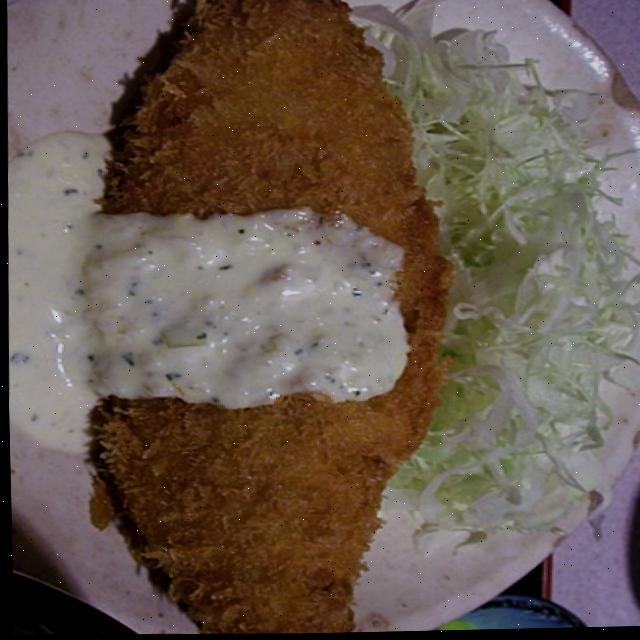炸货点心: (63, 0, 464, 639)
熟制海鲜: (63, 0, 464, 639)
